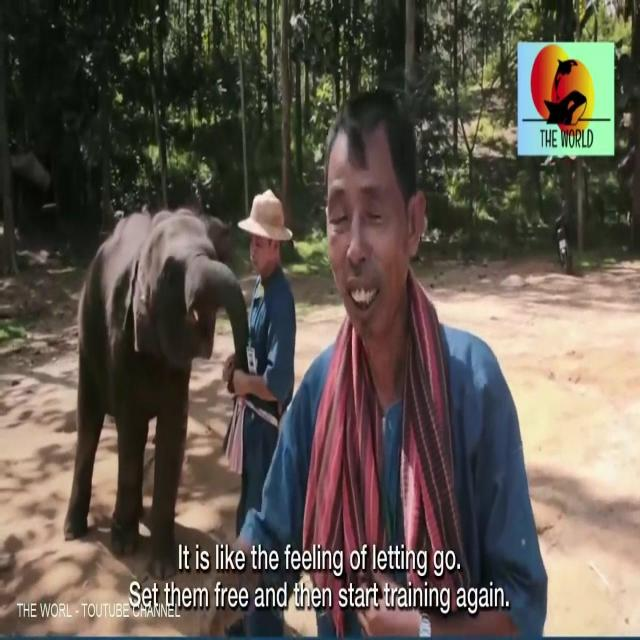Elephant: (79, 164, 252, 544)
